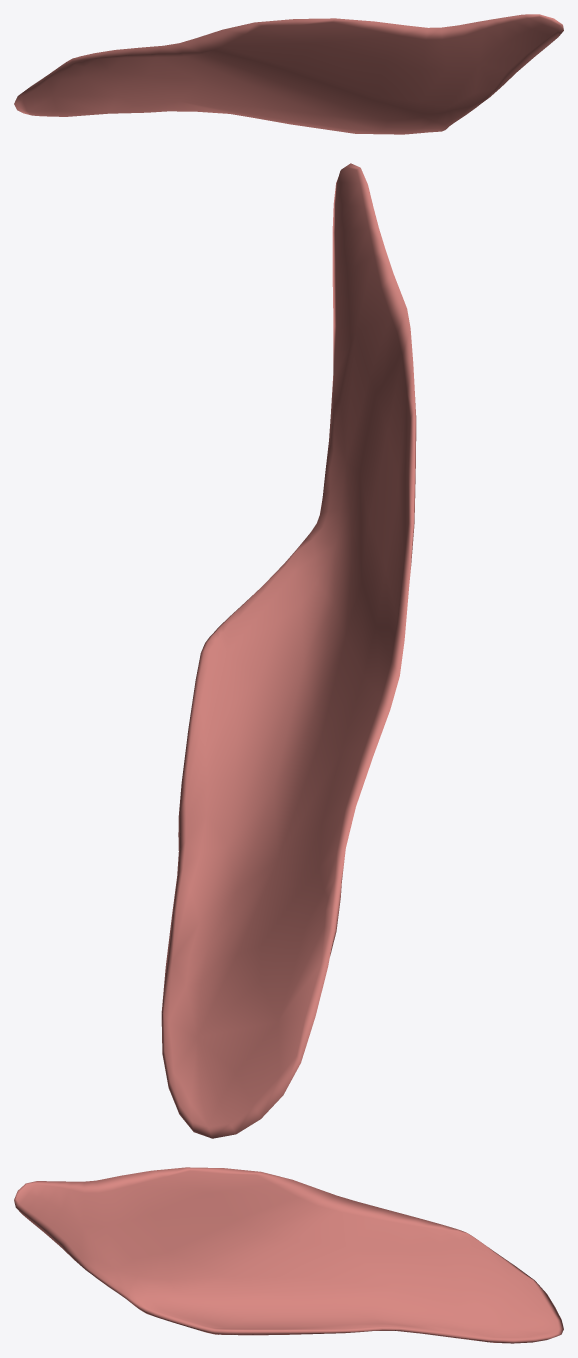
3 renders of one model, top to bottom at view 1: azimuth 30°, elevation 25°; view 2: azimuth 150°, elevation 25°; view 3: azimuth 270°, elevation 25°, orthographic. The views are drawn at different scales.
Visible parts, largest first — view 1: ZA_4d9e8664f1d4f060; view 2: ZA_4d9e8664f1d4f060; view 3: ZA_4d9e8664f1d4f060.
Part boxes in pixels (left/top/right/bottom): ZA_4d9e8664f1d4f060: left=14, top=14, right=563, bottom=134; ZA_4d9e8664f1d4f060: left=161, top=163, right=416, bottom=1138; ZA_4d9e8664f1d4f060: left=14, top=1167, right=563, bottom=1343.
Size of the model in its own units: 0.0225 by 0.0215 by 0.0442.
